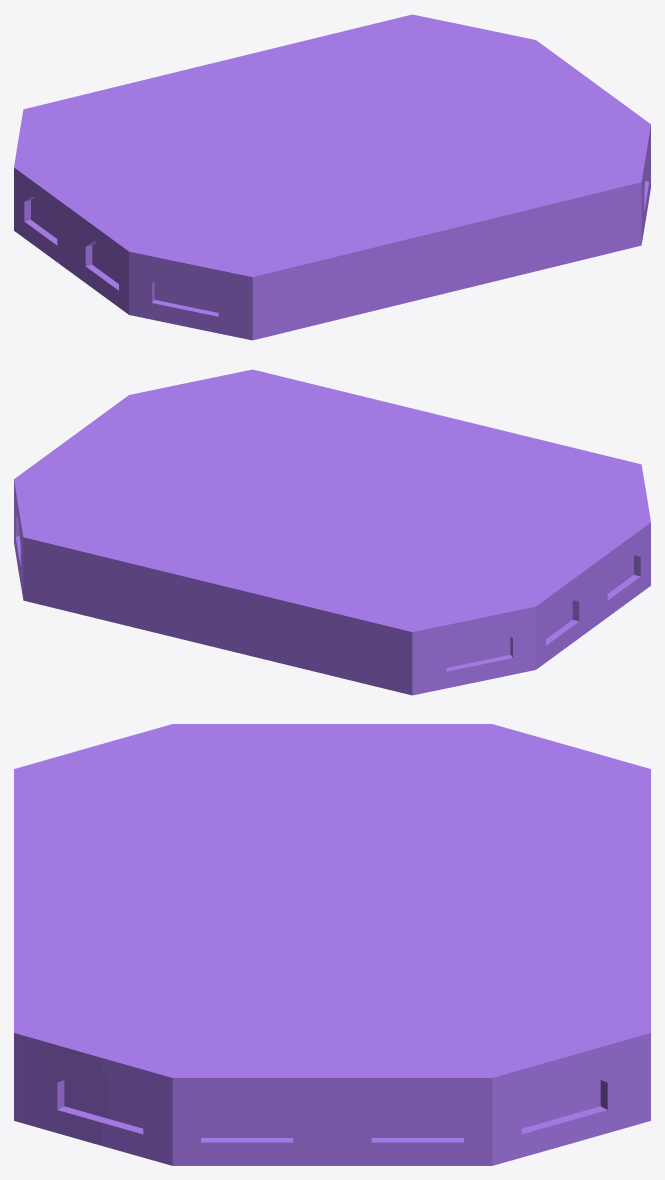
The model's file is 3rdFloor.fbx.
3 renders of one model, top to bottom at view 1: azimuth 30°, elevation 25°; view 2: azimuth 150°, elevation 25°; view 3: azimuth 270°, elevation 25°, orthographic. The views are drawn at different scales.
Parts seen in each view (by area): view 1: Box089; view 2: Box089; view 3: Box089.
Boxes of the visible parts, x1,y1,x2,y2 form: Box089: [14, 14, 650, 340]; Box089: [14, 369, 650, 695]; Box089: [14, 724, 650, 1165].
Size of the model in its own units: 2568 by 1953 by 298.
